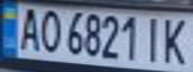1: (118, 14, 142, 62)
2: (100, 12, 121, 61)
6: (60, 9, 84, 55)
8: (81, 10, 103, 57)
A: (12, 4, 42, 52)
I: (139, 15, 166, 64)
K: (160, 15, 193, 65)
O: (36, 8, 63, 53)
